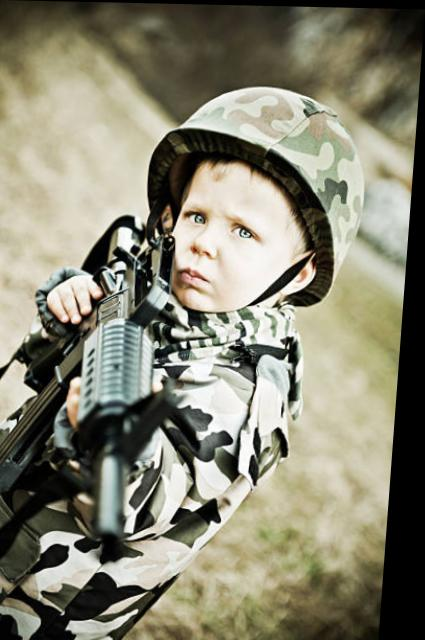other: (0, 75, 360, 633)
